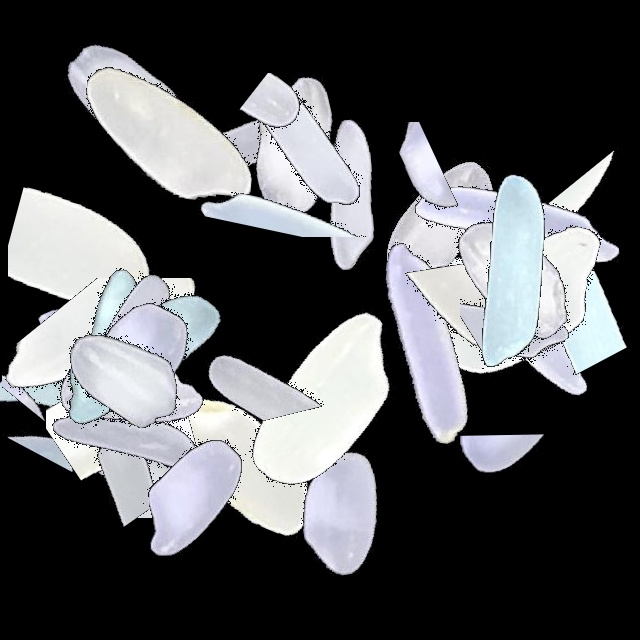Broken: (376, 222, 550, 472), (28, 11, 198, 261), (8, 131, 172, 381), (0, 278, 250, 434), (0, 287, 153, 537), (0, 250, 250, 403), (46, 282, 194, 532), (188, 220, 334, 470), (33, 325, 179, 575), (460, 171, 606, 421), (390, 233, 640, 377), (500, 172, 640, 422), (0, 375, 250, 511), (26, 383, 276, 518), (395, 207, 530, 457), (255, 122, 505, 242), (188, 117, 438, 237), (452, 367, 567, 617), (390, 242, 640, 353), (521, 125, 629, 375), (0, 276, 107, 526), (168, 73, 418, 178), (2, 237, 103, 487), (390, 202, 640, 301), (468, 136, 559, 386), (151, 152, 401, 236)
Full: (114, 338, 364, 588), (390, 199, 640, 449), (112, 21, 362, 271), (170, 20, 420, 270), (214, 388, 464, 638), (390, 200, 640, 450), (316, 94, 566, 344), (42, 11, 292, 261), (199, 279, 449, 529), (0, 283, 250, 533), (0, 255, 250, 505), (226, 70, 476, 320), (390, 99, 640, 349), (390, 170, 640, 420), (0, 314, 250, 564), (185, 18, 435, 268), (71, 374, 321, 624), (0, 214, 250, 464), (0, 269, 250, 519), (12, 234, 262, 484), (390, 154, 640, 404), (18, 230, 268, 480), (0, 253, 250, 503), (390, 144, 640, 394)
